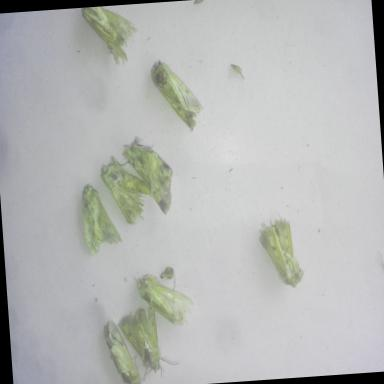abw: (116, 300, 183, 384), (146, 52, 207, 138), (117, 134, 176, 220), (96, 152, 158, 232), (254, 208, 308, 294), (130, 268, 198, 335), (76, 4, 142, 72), (76, 178, 128, 259), (98, 313, 151, 384)
